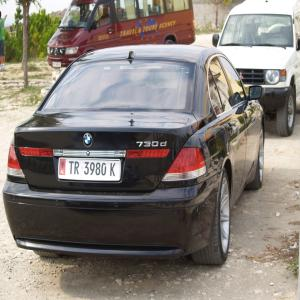Vehicle-registration-plate: (53, 151, 130, 188)
